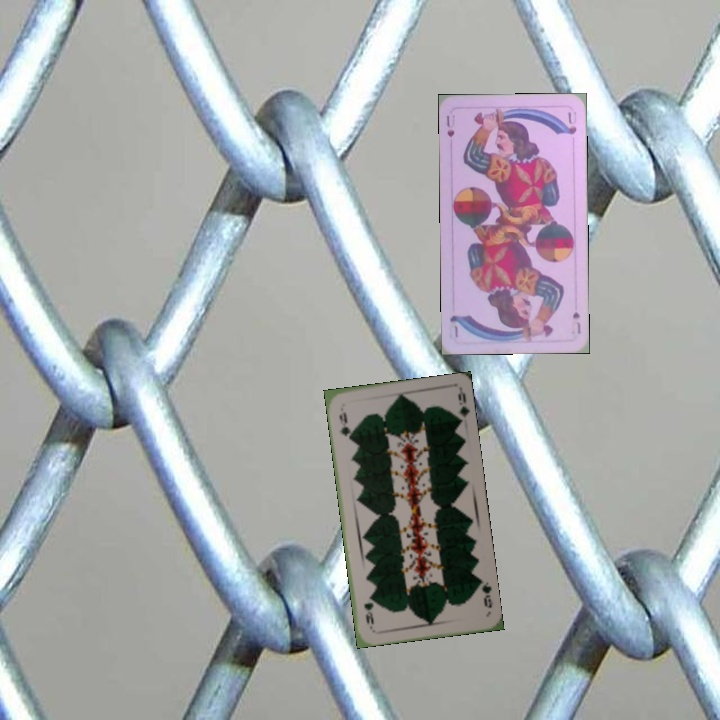G9: (335, 408, 353, 442), (478, 578, 495, 610)
SU: (442, 111, 457, 140), (569, 307, 583, 336)
